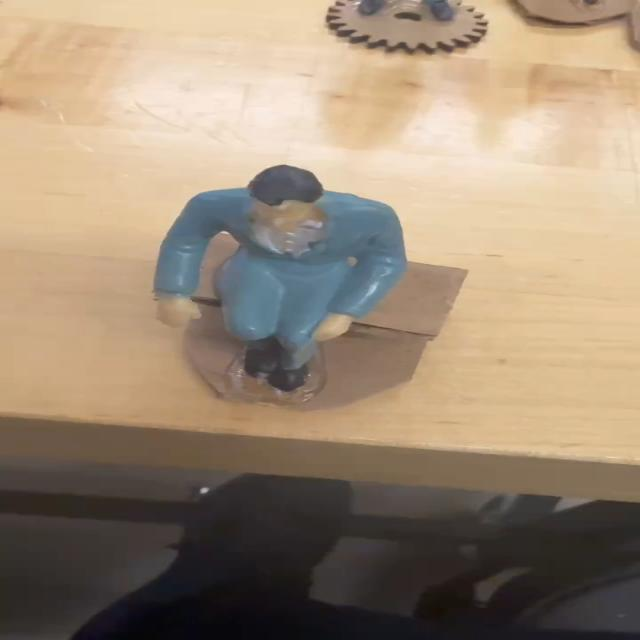Authorized: (145, 158, 408, 406)
